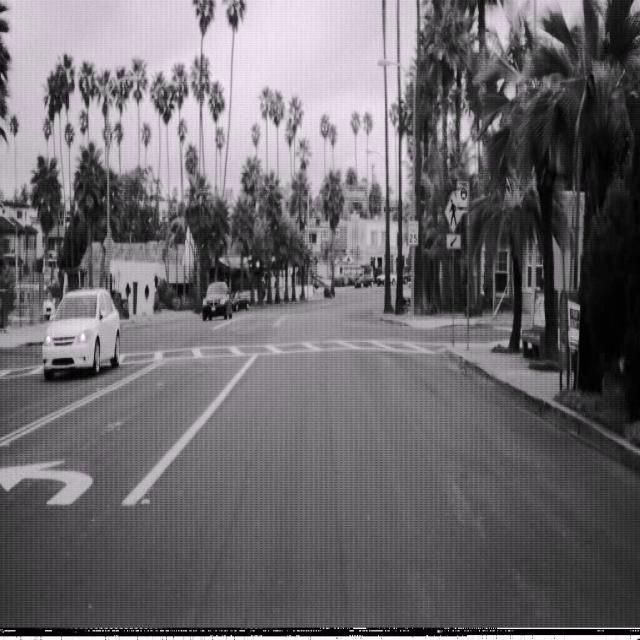pedestrianCrossing: (443, 190, 463, 232)
speedLimit25: (407, 218, 419, 245)
